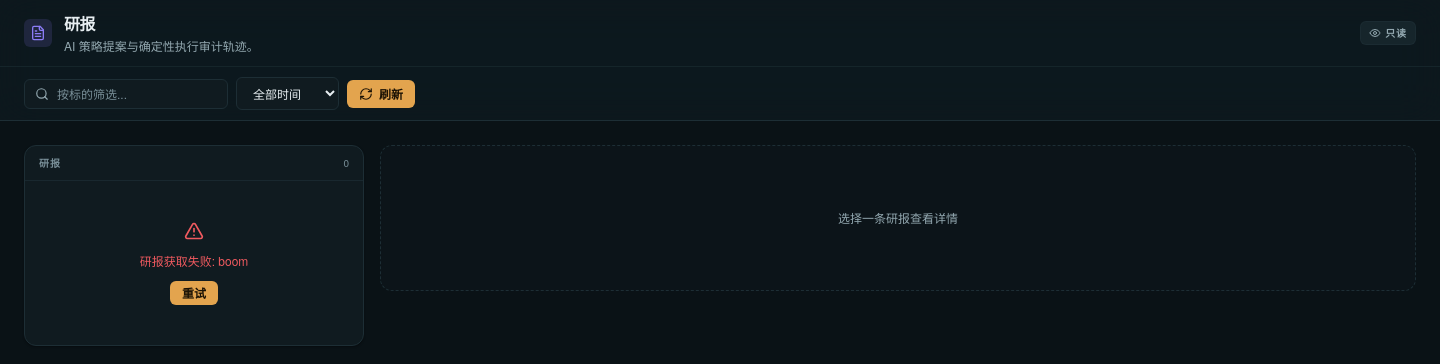
Test: ResearchView › shows an error state and recovers after retry
The width and height of the screenshot is (1440, 364).
Check: the element with test id "research-error" is shown, box [140,221,248,305]
Check: the element with test id "research-error" shows "boom", box [218,252,248,269]
Click the button with test id "research-retry": (194, 293) [170,281,218,305]
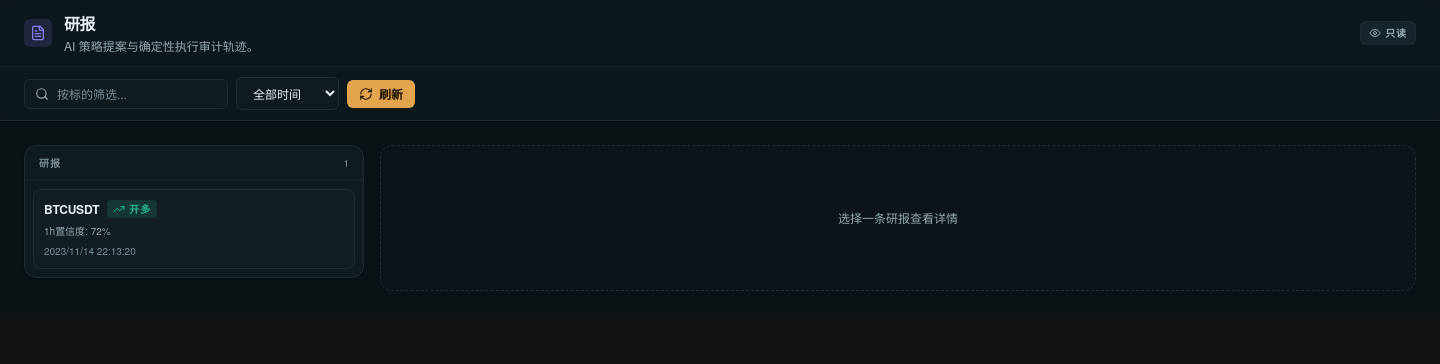
Check: the list with test id "proposal-list" is shown, box [25,181,363,277]
